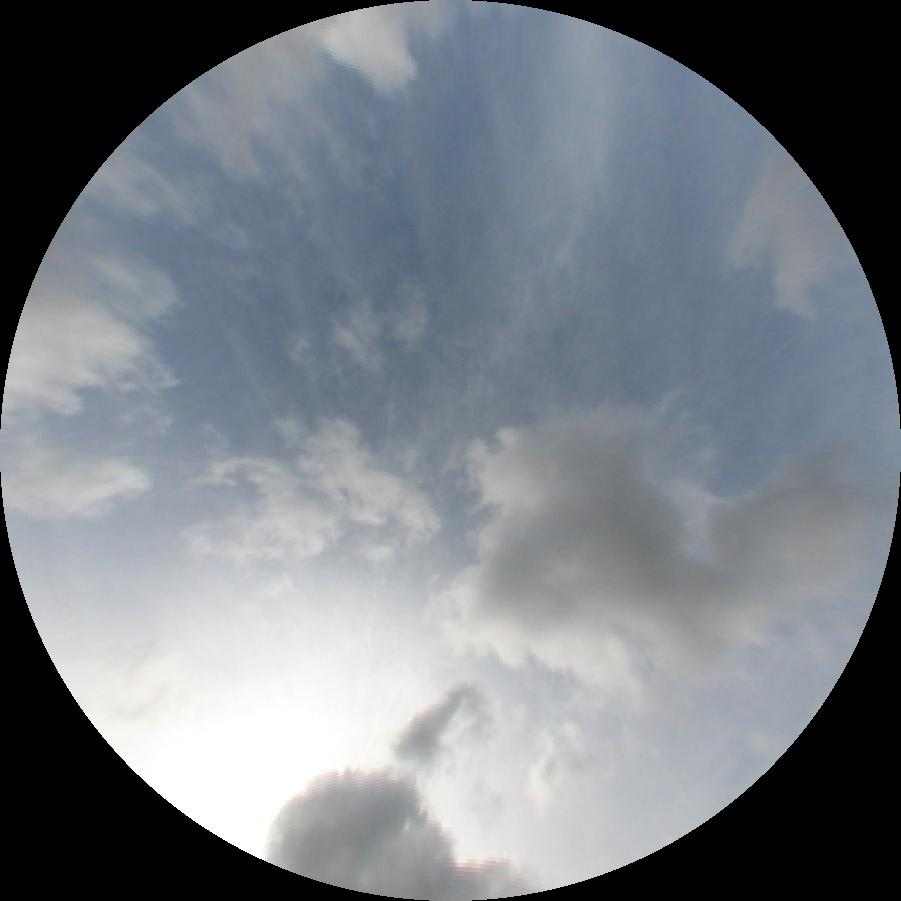contrail young: (221, 322, 296, 454)
sun: (124, 700, 352, 859)
unknow: (351, 373, 401, 726)
